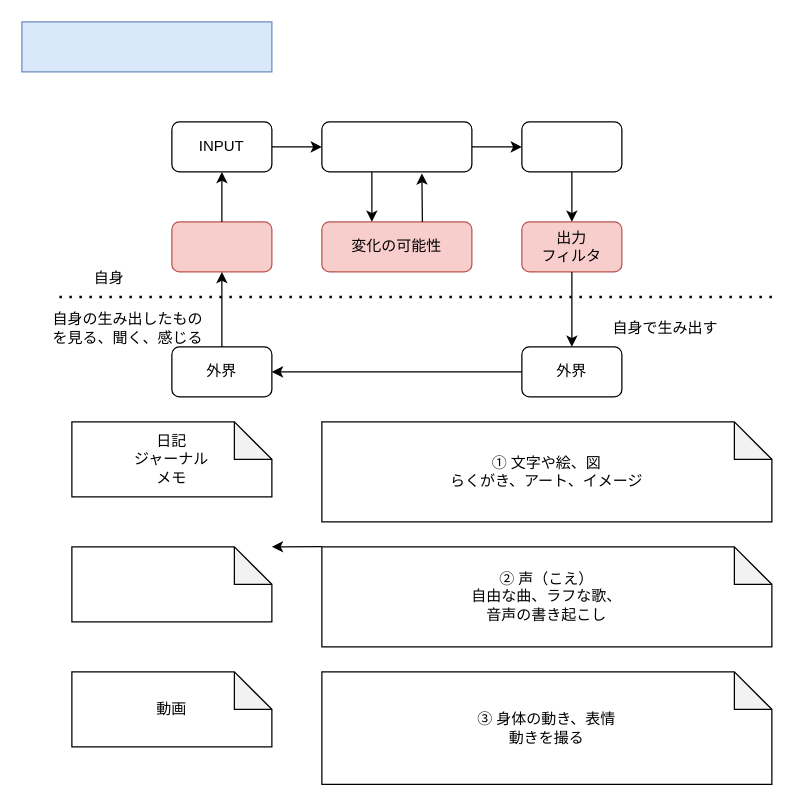
Some shapes in this 796 by 806 pixel diagram are drawn without their labels. Here are the shapes that lost their labels. From the top down, the centre of each, then its label:
At (146,46): "自身で気づく ～雑に出す～".
At (396,146): "PROCESS".
At (571,146): "OUTPUT".
At (221,246): "入力 フィルタ".
At (171,584): "音声データ".
